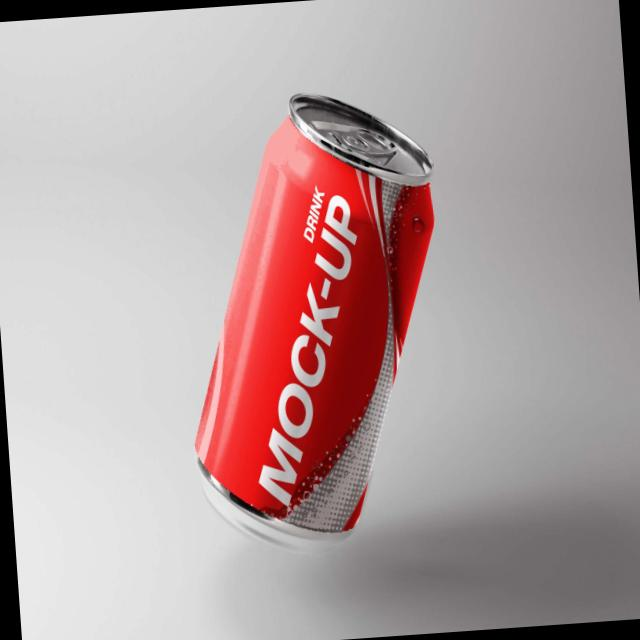soda_can: (158, 70, 482, 596)
